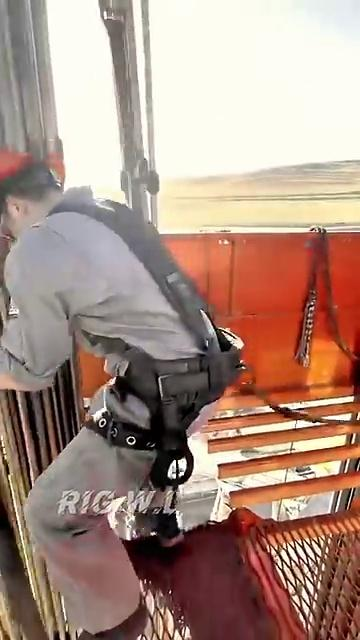helmet: (0, 116, 76, 198)
shoes: (143, 497, 225, 558)
worker: (0, 163, 210, 628)
